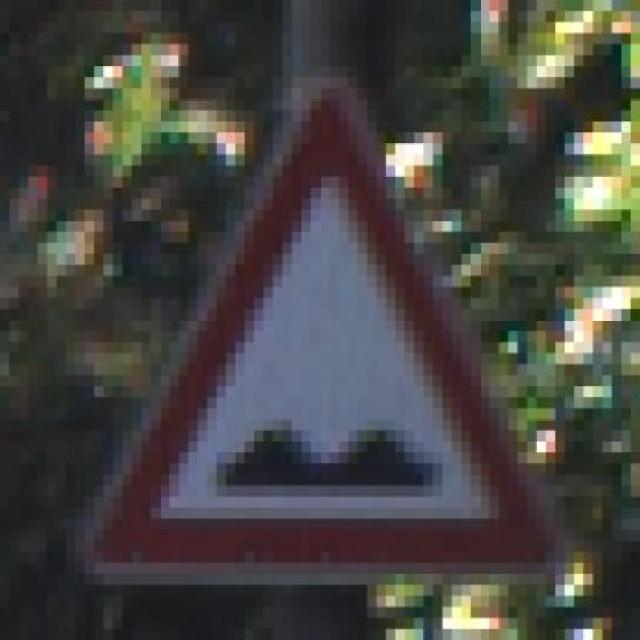Uneven Road: (66, 66, 574, 585)
